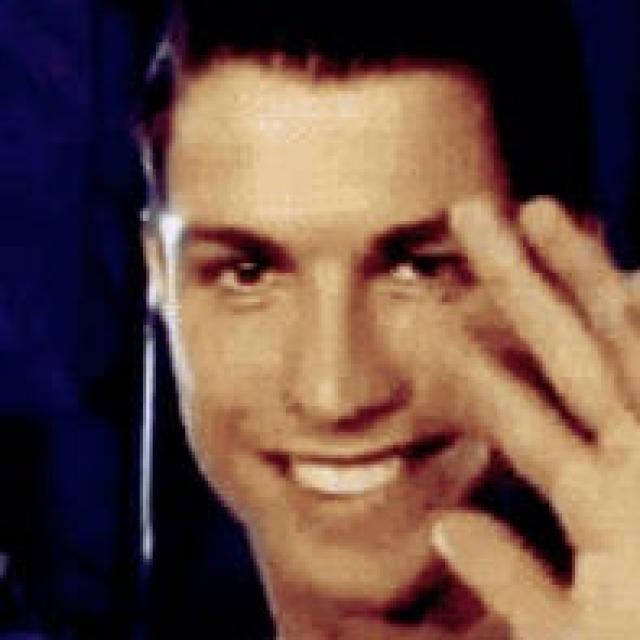Normal: (158, 63, 523, 614)
